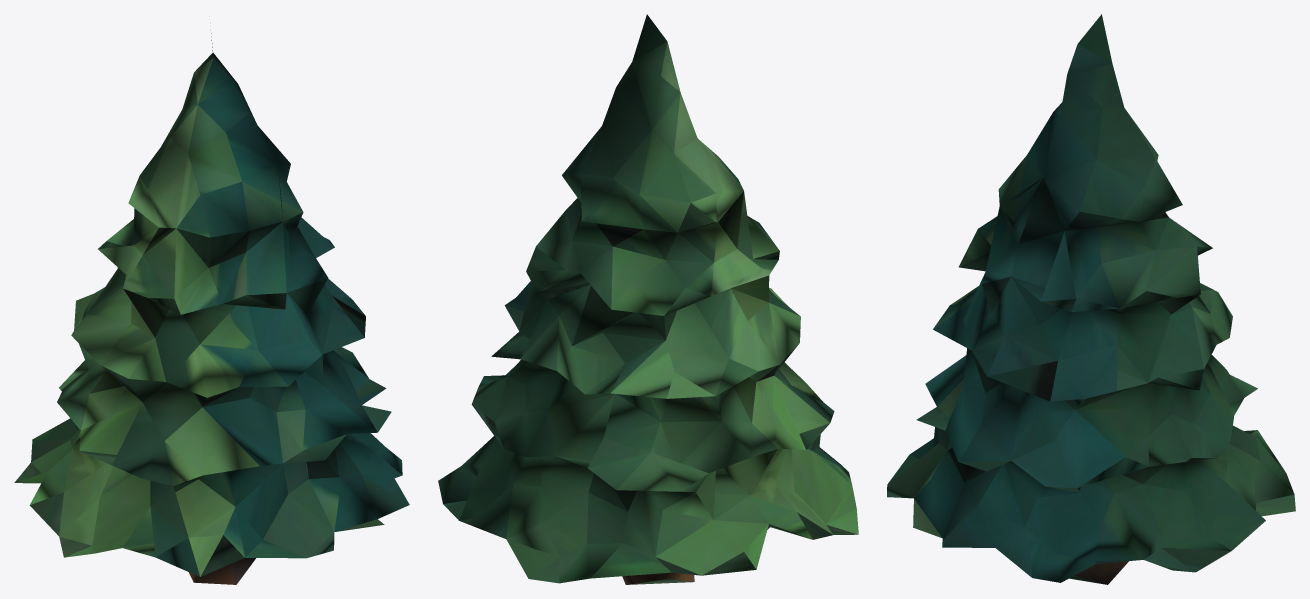
Rendered from tree-sapin-meshy-lod5.glb.
The picture shows the model from 3 angles, left to right: view 1: azimuth 30°, elevation 25°; view 2: azimuth 150°, elevation 25°; view 3: azimuth 270°, elevation 25°; orthographic projection. The views are drawn at different scales.
Visible parts, largest first — view 1: Mesh_0.001; view 2: Mesh_0.001; view 3: Mesh_0.001.
Boxes of the visible parts, left/top/right/bottom form: Mesh_0.001: left=14, top=33, right=409, bottom=584; Mesh_0.001: left=438, top=14, right=858, bottom=584; Mesh_0.001: left=887, top=14, right=1295, bottom=584.
Bounding box in the file's own units: 8.77 × 13.3 × 8.76.
1 material, 1 textured.
